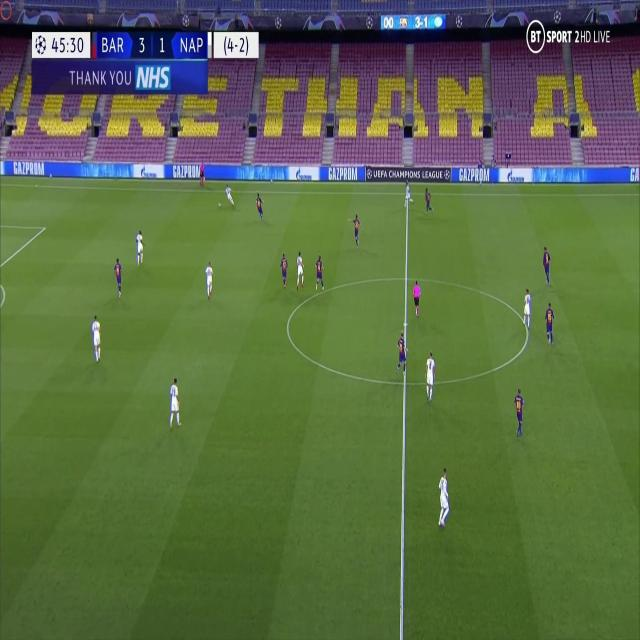ball: (217, 200, 222, 207)
player: (436, 465, 451, 529), (167, 375, 182, 430), (394, 329, 409, 378), (512, 386, 526, 438), (424, 348, 436, 402), (90, 310, 102, 362), (543, 300, 556, 347), (112, 256, 125, 299), (313, 252, 326, 292), (541, 244, 553, 286), (348, 212, 362, 248), (204, 258, 215, 300), (522, 286, 532, 330), (134, 228, 145, 266), (411, 277, 421, 317), (295, 250, 305, 290), (279, 251, 289, 289), (255, 190, 265, 220), (424, 185, 434, 214), (403, 179, 413, 207), (224, 182, 234, 208), (198, 158, 206, 189)
